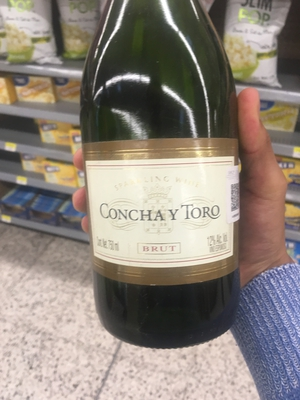brut: (80, 6, 253, 340)
